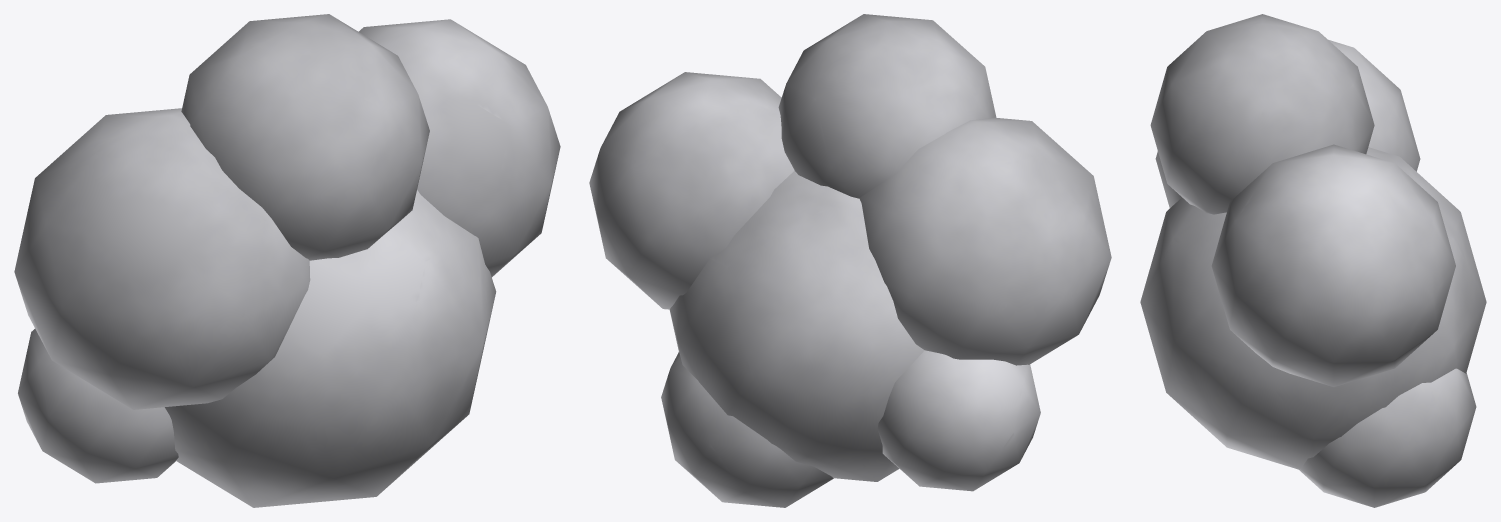
Rendered from Energia_Smoke.fbx.
3 views of the same model, side by side, from view 1: azimuth 30°, elevation 25°; view 2: azimuth 150°, elevation 25°; view 3: azimuth 270°, elevation 25° (orthographic). The views are drawn at different scales.
Visible parts, largest first — view 1: Energia_Smoke; view 2: Energia_Smoke; view 3: Energia_Smoke.
Boxes of the visible parts, x1,y1,x2,y2 form: Energia_Smoke: [14, 14, 560, 507]; Energia_Smoke: [589, 14, 1111, 507]; Energia_Smoke: [1140, 14, 1486, 507].
Bounding box in the file's own units: 1.02 × 0.96 × 0.68.
Materials: 1 (1 with a texture image).
